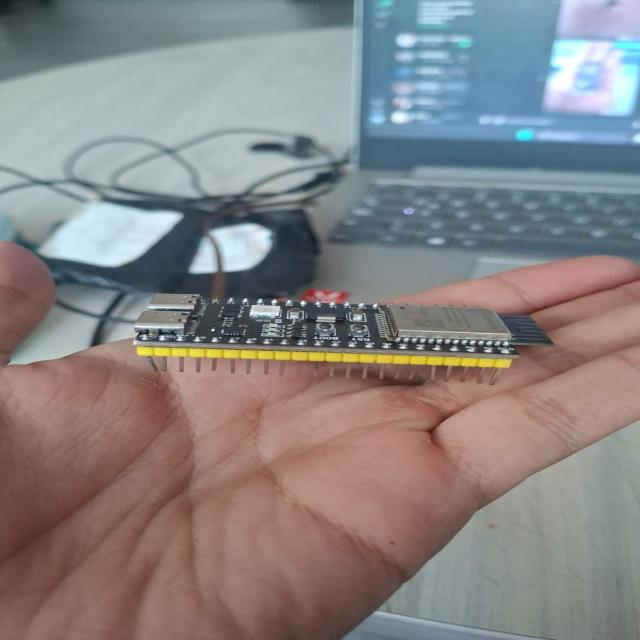ESP32: (134, 294, 552, 384)
